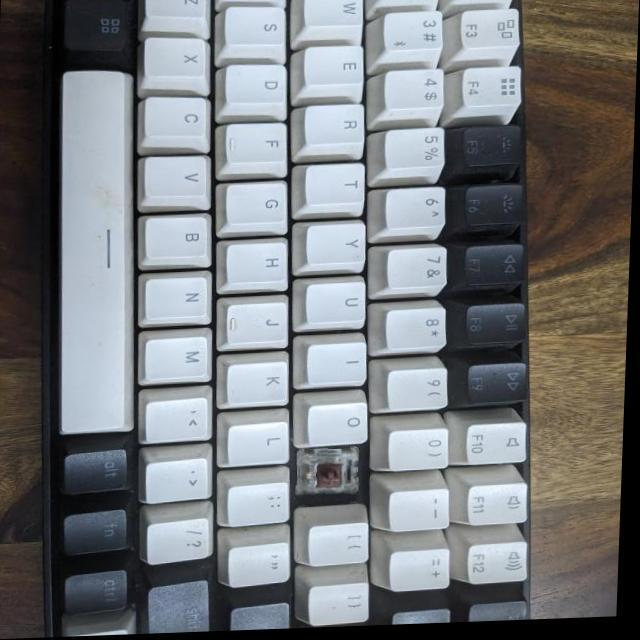key-switch: (299, 450, 362, 506)
